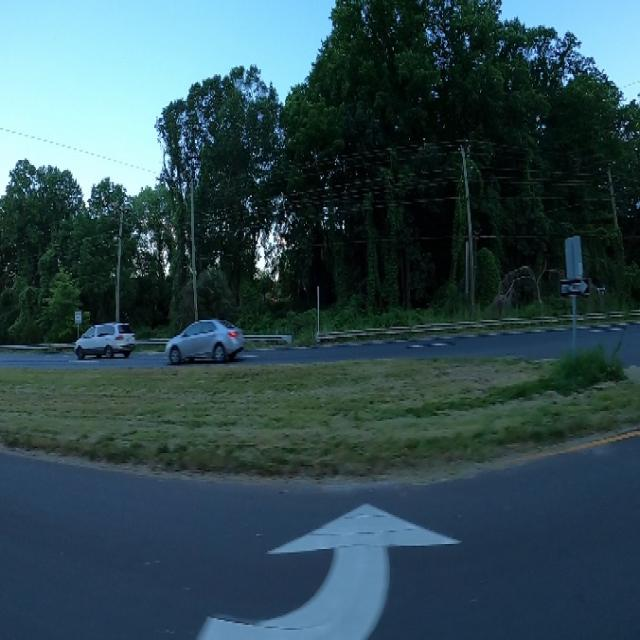cars: (162, 312, 248, 369), (77, 304, 138, 366)
